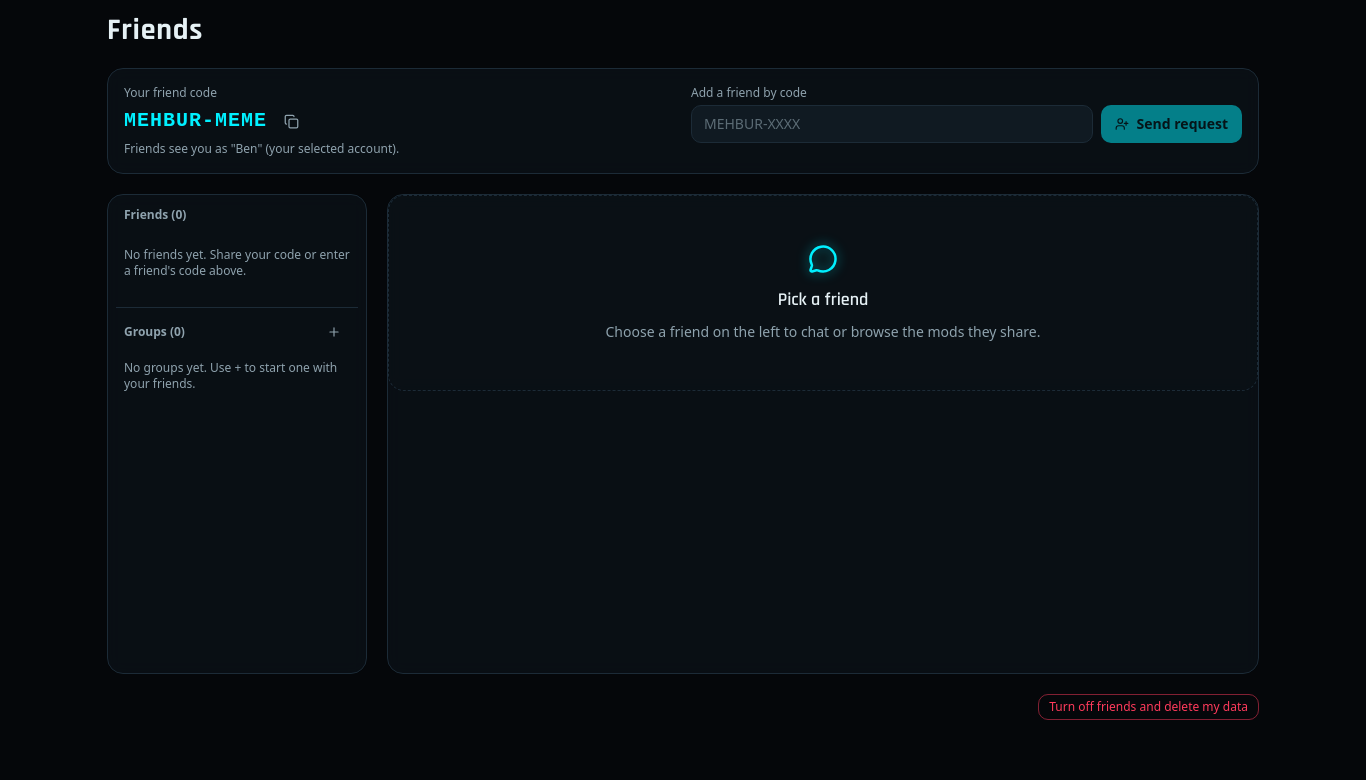
Test: FriendsPage › adds a friend by code and shows server errors inline
Type "mehbur-zzzz" into the field named "Add a friend by code" at (892, 124), box [691,105,1093,143]
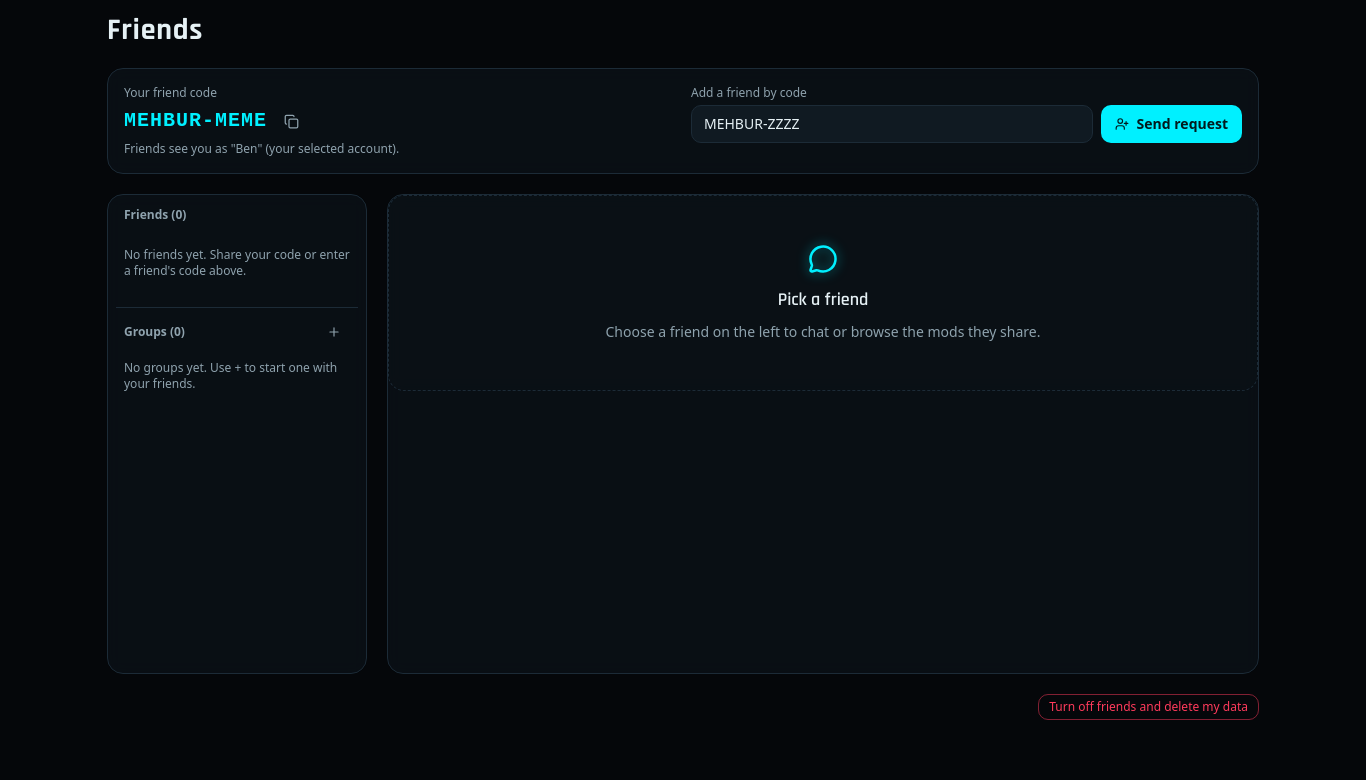
Click the button "Send request" at (1171, 124), box [1101,105,1242,143]
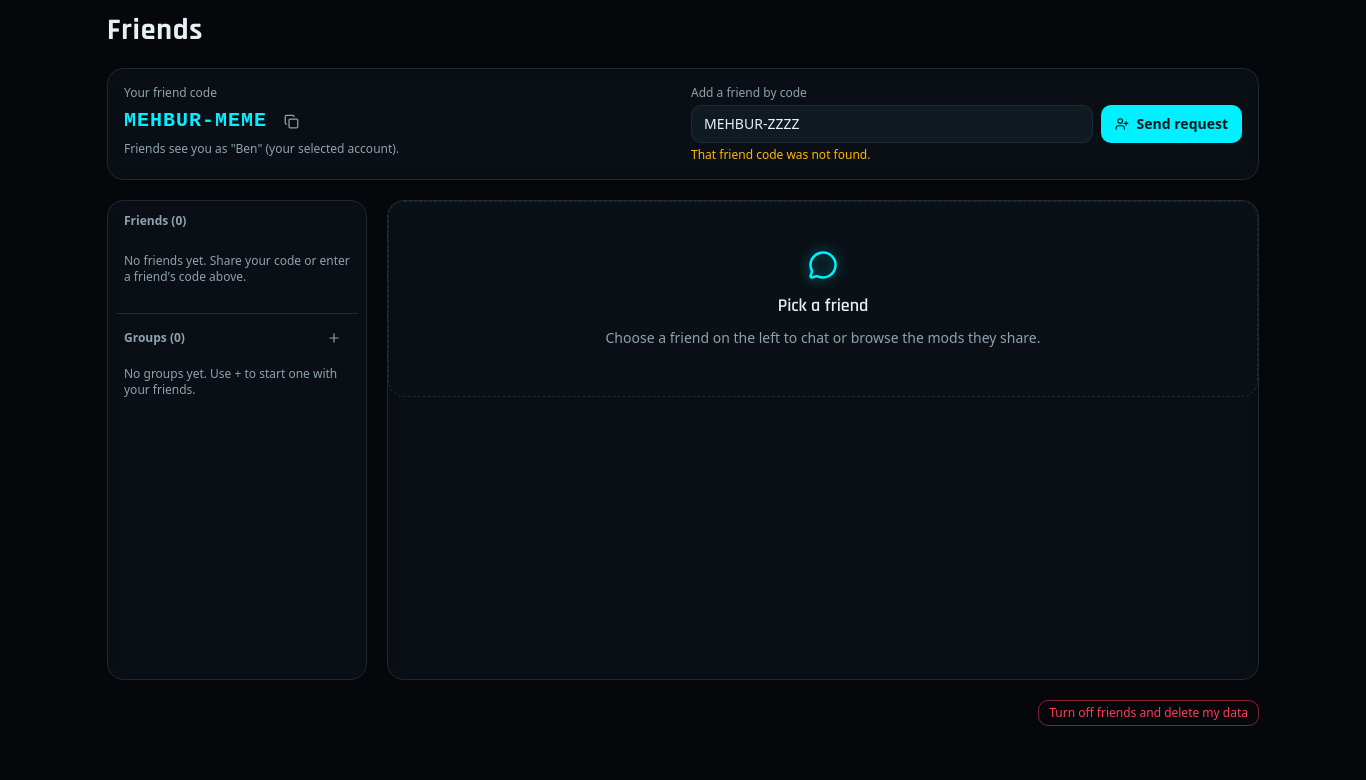
expect the text "That friend code was not found." is shown: met, box [691,146,870,163]
